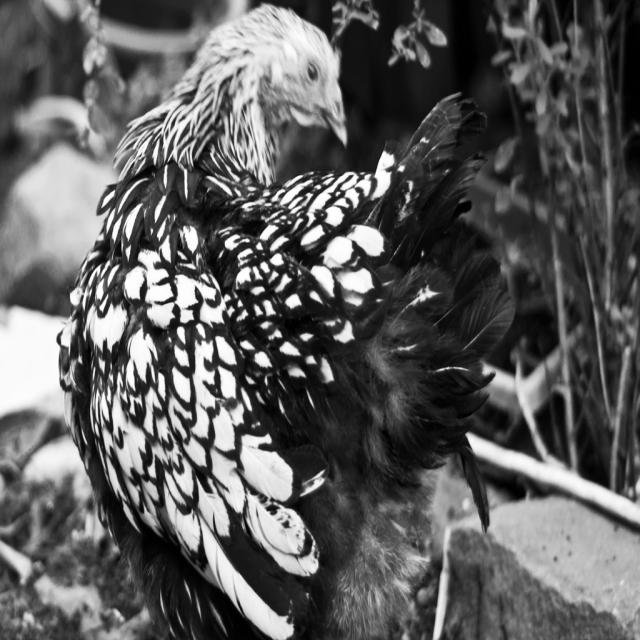Chicken: (51, 6, 516, 640)
